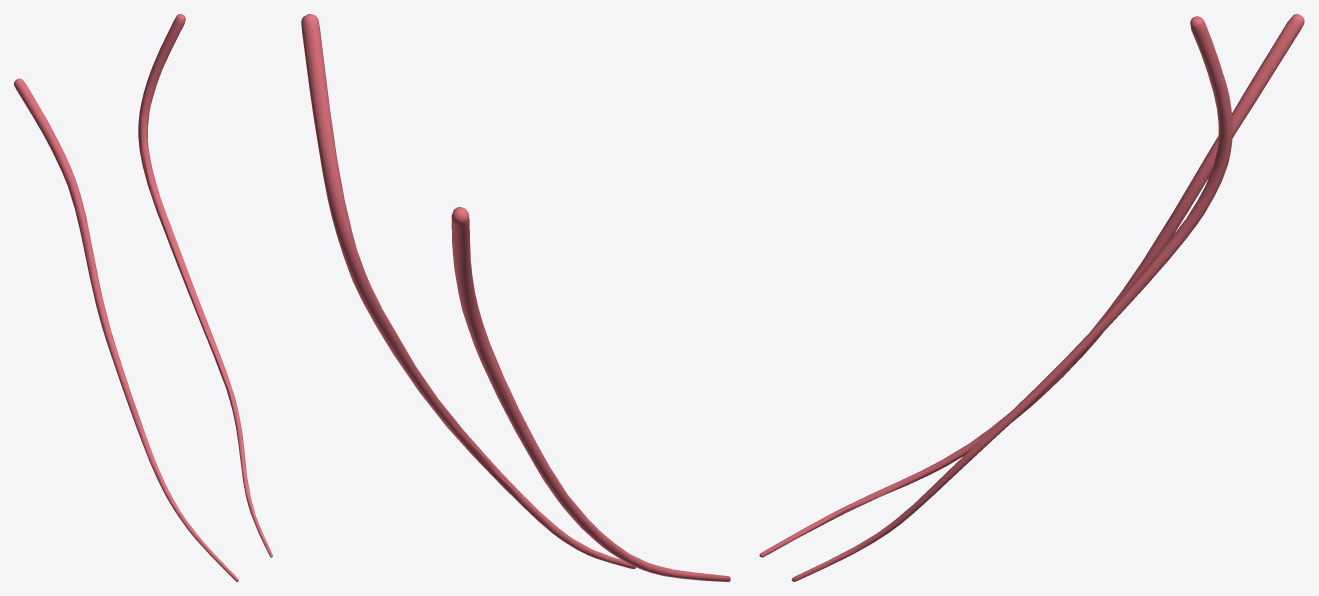
The model's file is fma85100_cx250.glb.
3 views of the same model, side by side, from view 1: azimuth 30°, elevation 25°; view 2: azimuth 150°, elevation 25°; view 3: azimuth 270°, elevation 25° (orthographic). The views are drawn at different scales.
Visible parts, largest first — view 1: FMA85100_CX250; view 2: FMA85100_CX250; view 3: FMA85100_CX250.
Part boxes in pixels (left/top/right/bottom): FMA85100_CX250: left=14, top=14, right=272, bottom=581; FMA85100_CX250: left=301, top=14, right=730, bottom=581; FMA85100_CX250: left=759, top=14, right=1304, bottom=581.
Size of the model in its own units: 0.0202 by 0.0615 by 0.05.
